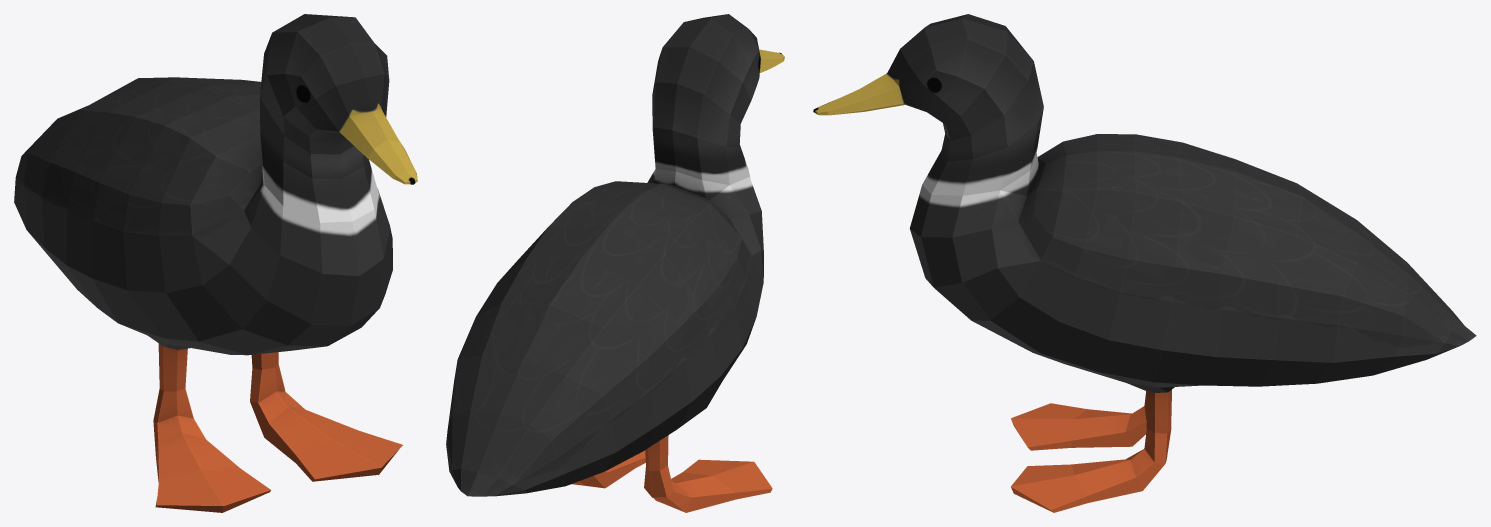
Rendered from BlackDuck.glb.
3 views of the same model, side by side, from view 1: azimuth 30°, elevation 25°; view 2: azimuth 150°, elevation 25°; view 3: azimuth 270°, elevation 25° (orthographic). The views are drawn at different scales.
Visible parts, largest first — view 1: MallardDuck; view 2: MallardDuck; view 3: MallardDuck.
Boxes of the visible parts, left/top/right/bottom form: MallardDuck: left=14, top=14, right=417, bottom=512; MallardDuck: left=446, top=14, right=784, bottom=512; MallardDuck: left=813, top=14, right=1476, bottom=512.
Size of the model in its own units: 0.9816 by 1.87 by 2.55.
Materials: 1 (1 with a texture image).
